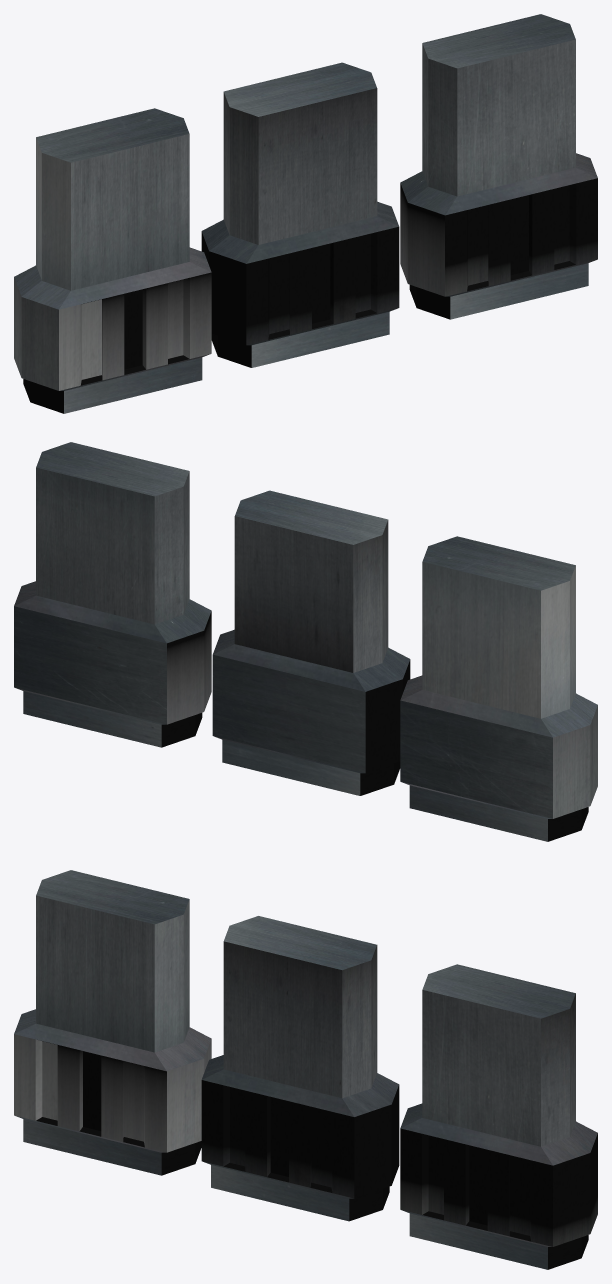
File: heater.fbx
3 views of the same model, one above another, from view 1: azimuth 30°, elevation 25°; view 2: azimuth 150°, elevation 25°; view 3: azimuth 330°, elevation 25° (orthographic).
Visible parts, largest first — view 1: Heaters; view 2: Heaters; view 3: Heaters.
Boxes of the visible parts, <box> form: Heaters: <box>14,14,597,413</box>; Heaters: <box>14,442,597,841</box>; Heaters: <box>14,870,597,1269</box>.
Size of what is drawn, in the model's own units: 14.64 by 6.07 by 2.
